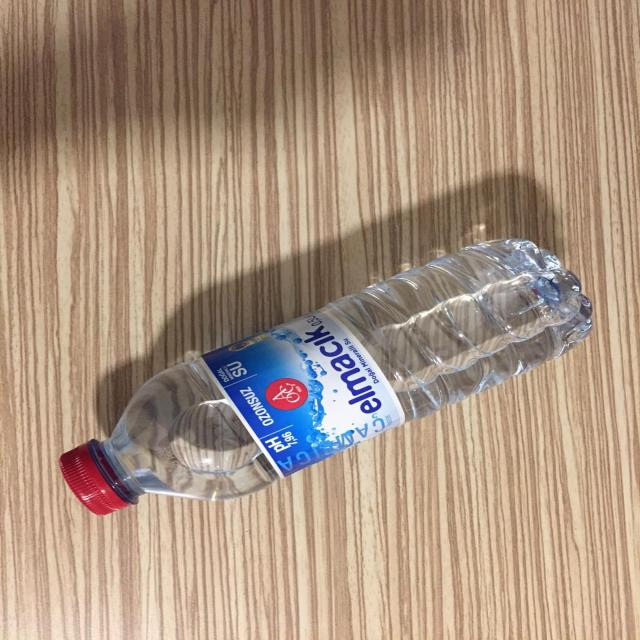bottle: (43, 261, 624, 528)
